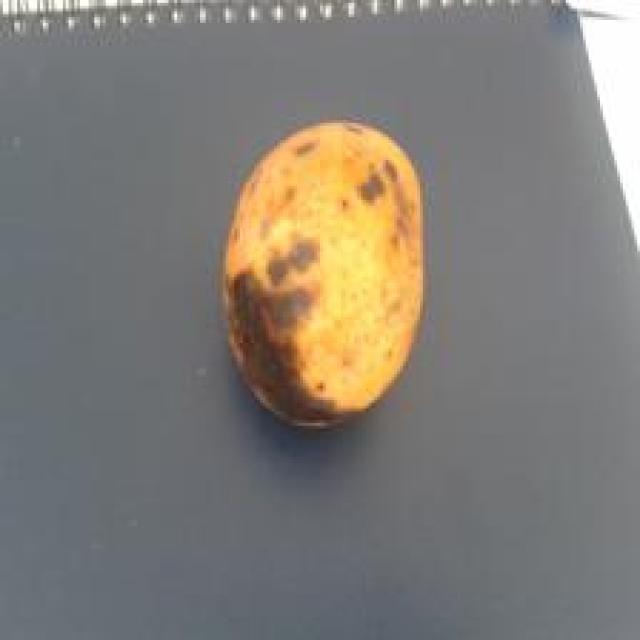black spot: (219, 114, 433, 432)
